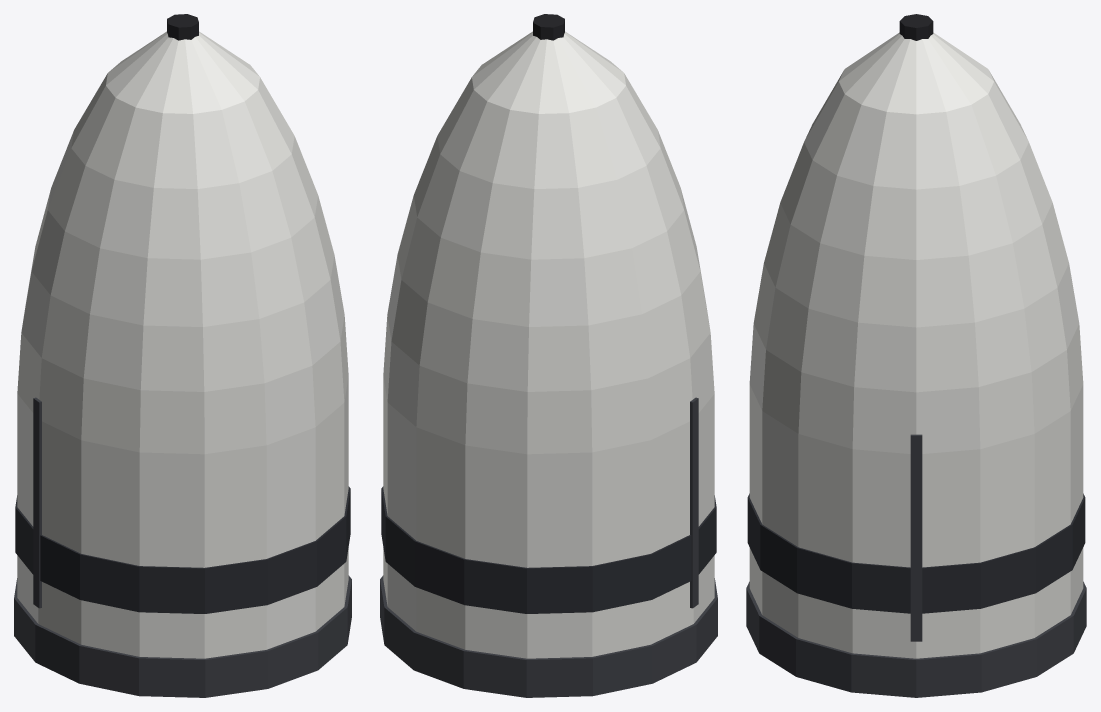
File: Head_Fairing_M.fbx
The picture shows the model from 3 angles, left to right: view 1: azimuth 30°, elevation 25°; view 2: azimuth 150°, elevation 25°; view 3: azimuth 270°, elevation 25°; orthographic projection.
Parts seen in each view (by area): view 1: Head_Fairing_M; view 2: Head_Fairing_M; view 3: Head_Fairing_M.
Part boxes in pixels (x1,y1,x2,y2): Head_Fairing_M: (14,14,351,697); Head_Fairing_M: (380,14,717,697); Head_Fairing_M: (746,14,1086,697).
Size of the model in its own units: 2.04 by 4 by 2.04.
1 material, 1 textured.
